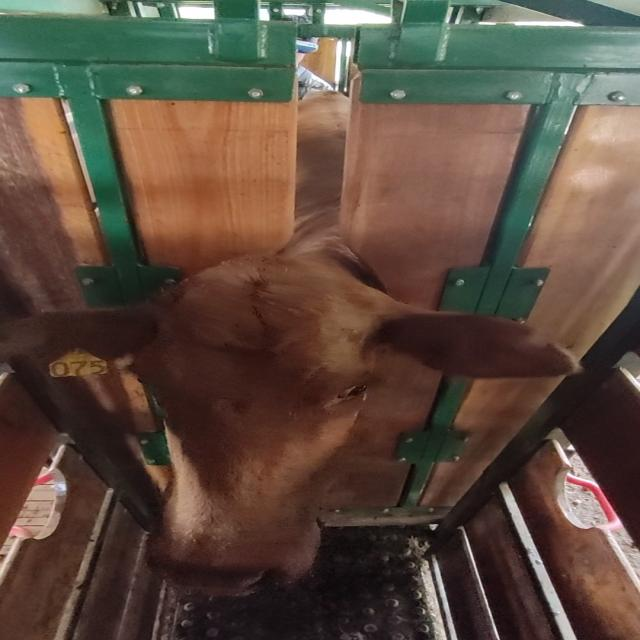cowFace: (132, 258, 372, 600)
